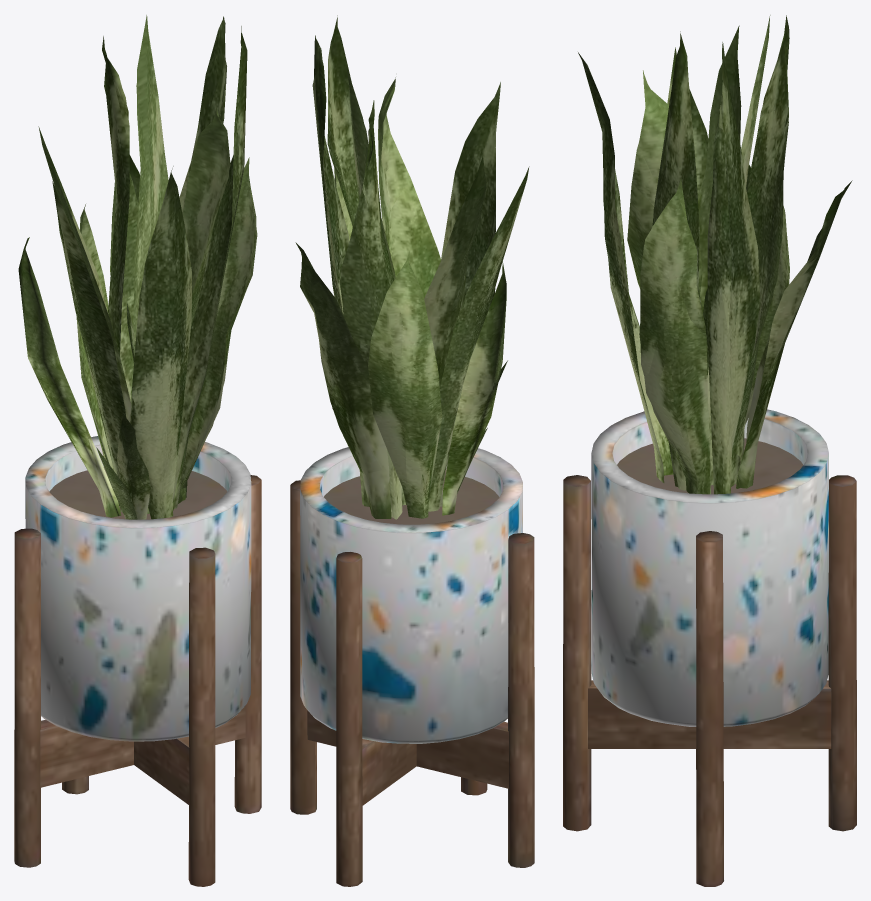
The model's file is snake.gltf.
3 views of the same model, side by side, from view 1: azimuth 30°, elevation 25°; view 2: azimuth 150°, elevation 25°; view 3: azimuth 270°, elevation 25° (orthographic). The views are drawn at different scales.
Parts seen in each view (by area): view 1: body; view 2: body; view 3: body.
Boxes of the visible parts, left/top/right/bottom form: body: left=14, top=15, right=261, bottom=886; body: left=290, top=15, right=534, bottom=886; body: left=563, top=15, right=856, bottom=886.
Size of the model in its own units: 0.3023 by 0.95 by 0.3013.
Materials: 2 (2 with a texture image).
